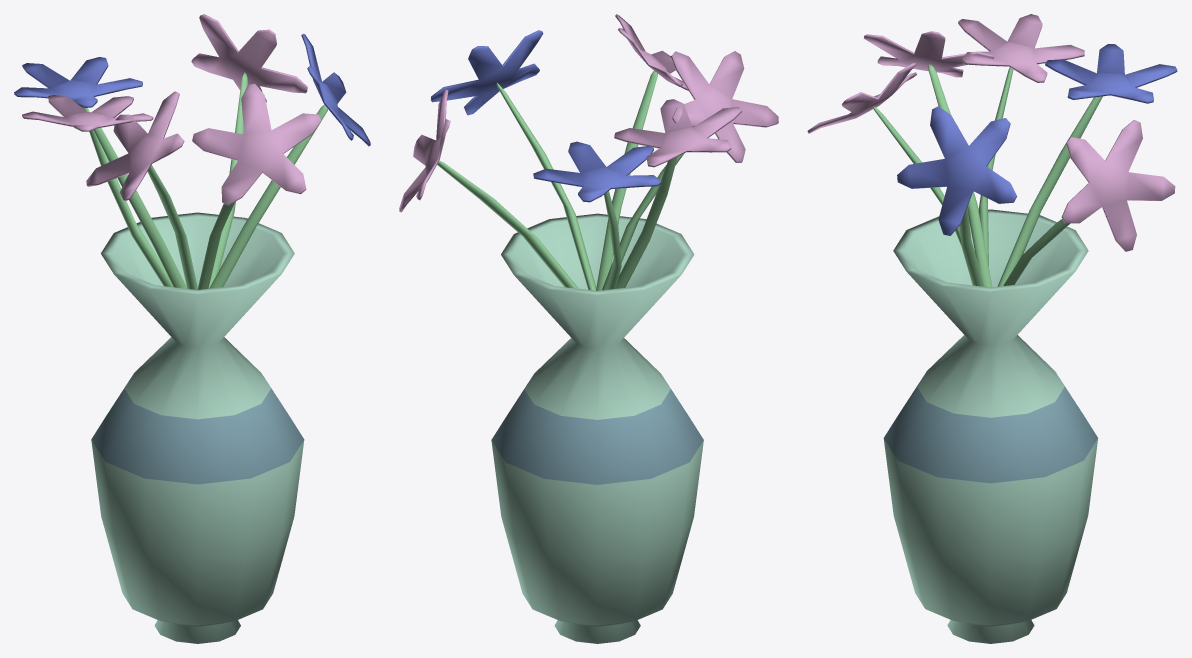
Rendered from flowerVas2.fbx.
The picture shows the model from 3 angles, left to right: view 1: azimuth 30°, elevation 25°; view 2: azimuth 150°, elevation 25°; view 3: azimuth 270°, elevation 25°; orthographic projection.
Parts seen in each view (by area): view 1: Circle_009; view 2: Circle_009; view 3: Circle_009.
Part boxes in pixels (<box>): Circle_009: <box>14,14,370,643</box>; Circle_009: <box>399,14,778,643</box>; Circle_009: <box>807,14,1177,643</box>.
Bounding box in the file's own units: 21.51 × 37.51 × 22.05.
